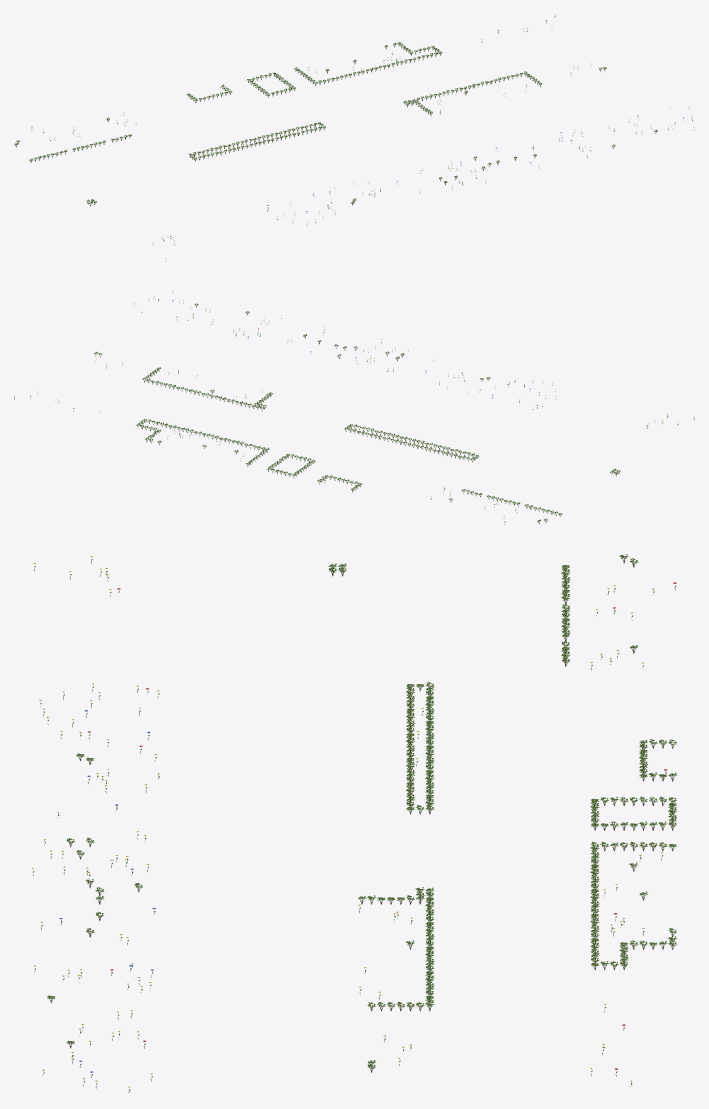
3 renders of one model, top to bottom at view 1: azimuth 30°, elevation 25°; view 2: azimuth 150°, elevation 25°; view 3: azimuth 270°, elevation 25°, orthographic. The views are drawn at different scales.
Visible parts, largest first — view 1: GROUND_FLORA_s_-5_5; view 2: GROUND_FLORA_s_-5_5; view 3: GROUND_FLORA_s_-5_5.
Part boxes in pixels (x1,y1,x2,y2): GROUND_FLORA_s_-5_5: [14, 14, 694, 261]; GROUND_FLORA_s_-5_5: [14, 291, 694, 524]; GROUND_FLORA_s_-5_5: [32, 554, 676, 1092].
Size of the model in its own units: 128 by 1.97 by 66.53.
